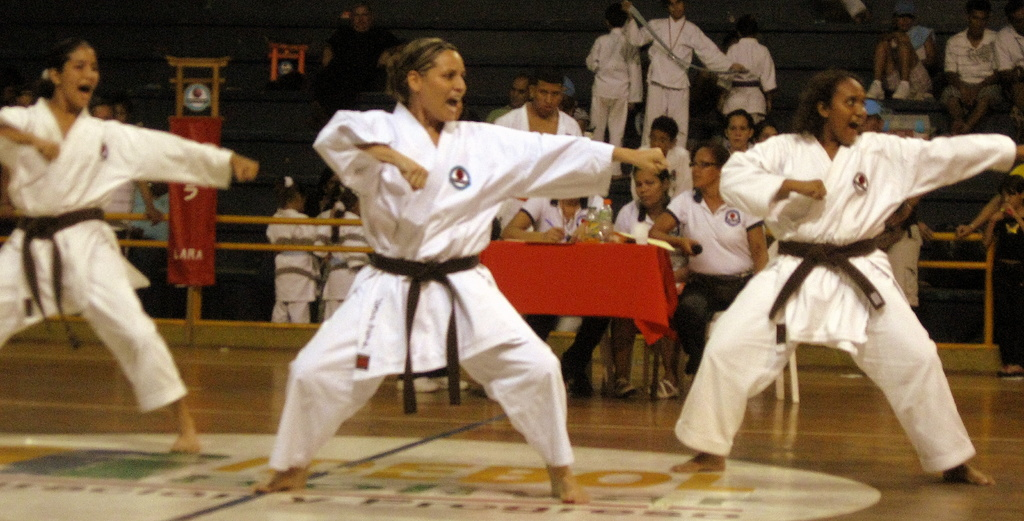Person: (261, 0, 1024, 396)
